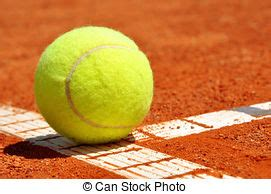tennis_ball: (33, 24, 153, 144)
